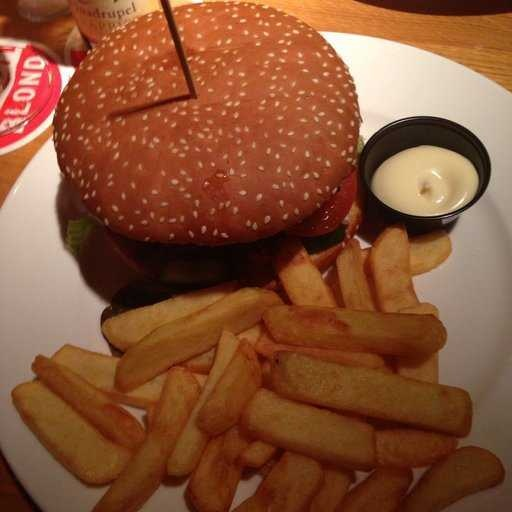hamburger: (66, 16, 366, 276)
